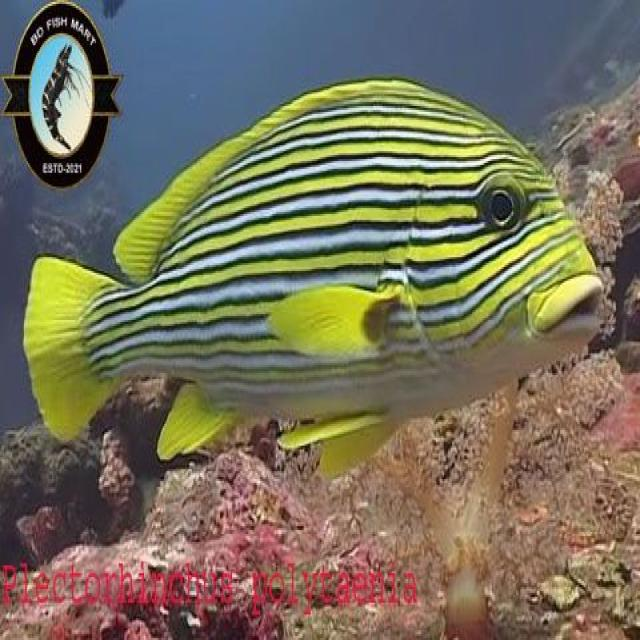RibbonedSweetlips: (21, 72, 604, 498)
